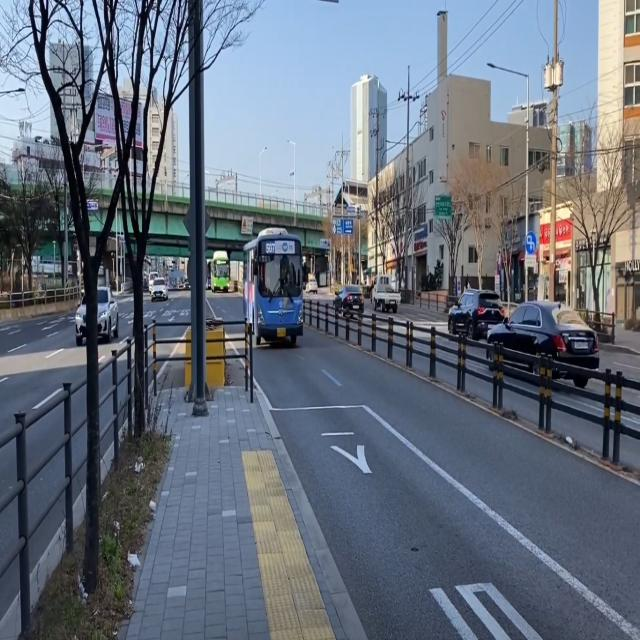bus-number: (266, 242, 275, 254)
